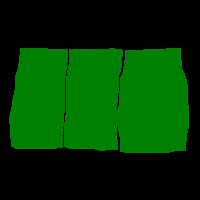mutande: (117, 48, 189, 153), (63, 48, 123, 151), (9, 48, 68, 149)
